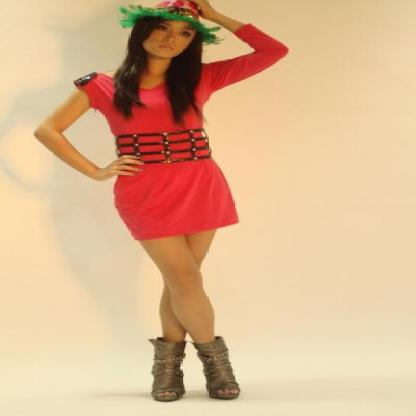dress: (74, 25, 286, 240)
hat: (121, 0, 232, 52)
shoe: (149, 336, 239, 402)
